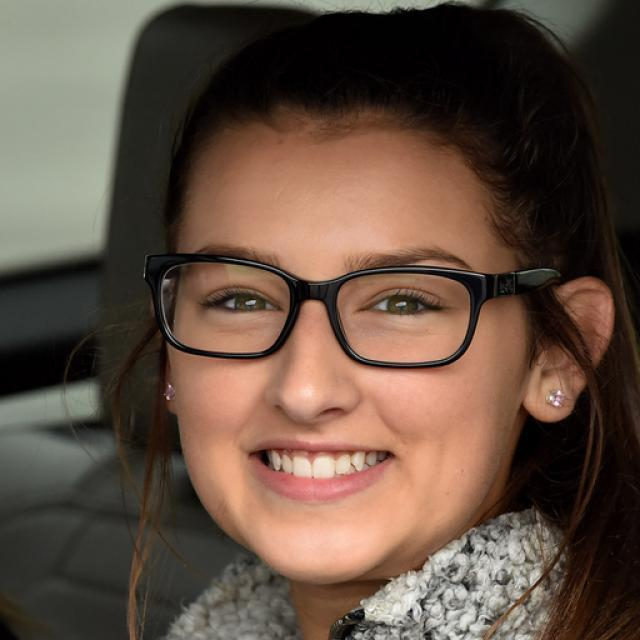happy: (170, 124, 522, 578)
